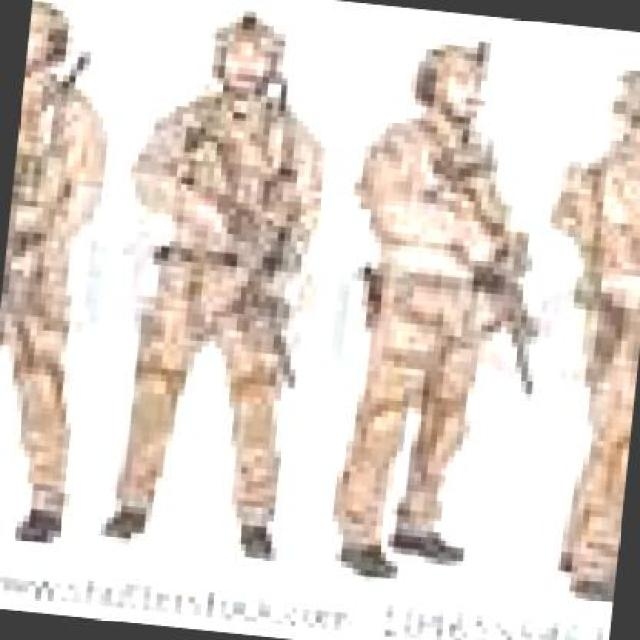MIL_Pax: (80, 0, 343, 566), (313, 32, 535, 591), (494, 55, 638, 634), (0, 0, 121, 558)
